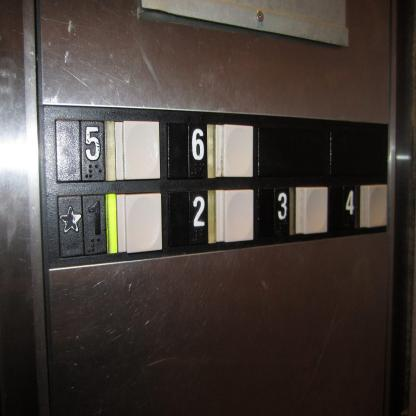2: (166, 189, 210, 250)
3: (256, 186, 291, 238)
4: (329, 183, 356, 233)
5: (52, 118, 108, 184)
6: (165, 118, 209, 180)
empty: (110, 116, 162, 182), (113, 192, 164, 255), (214, 121, 255, 180), (214, 188, 256, 244), (294, 184, 329, 236), (358, 183, 389, 229)
s1: (54, 191, 110, 258)
